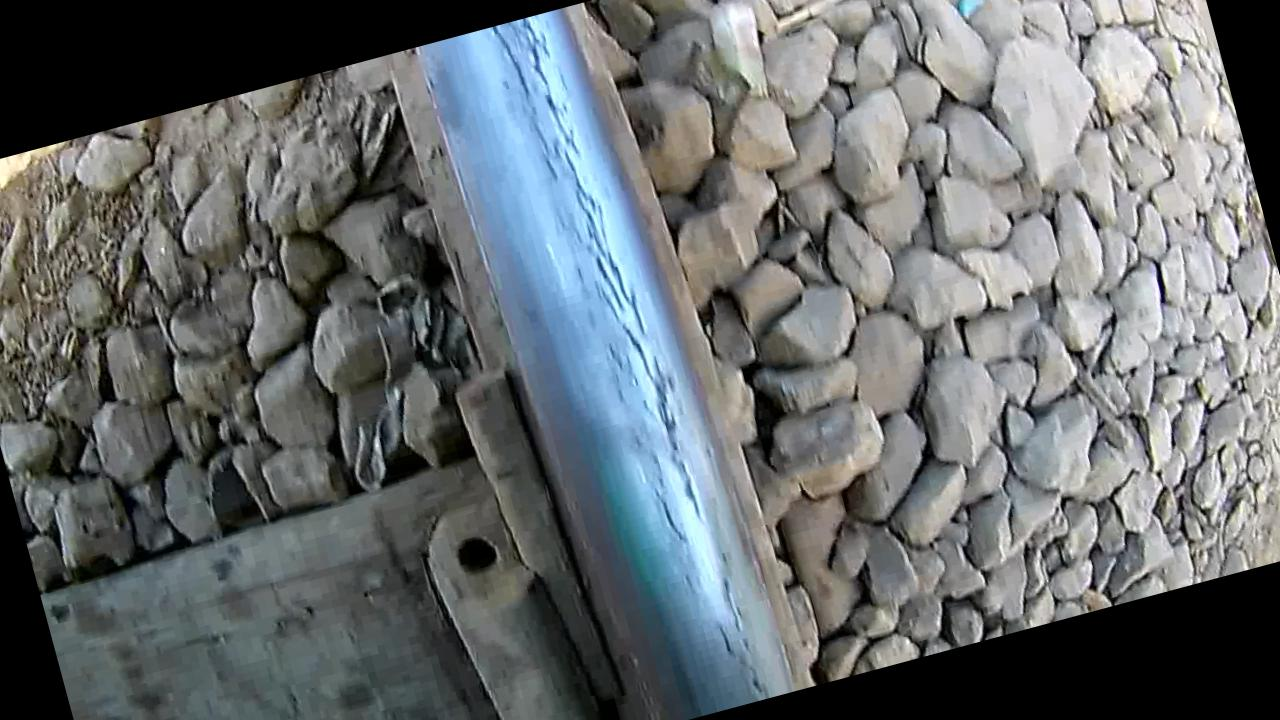normal_track: (489, 2, 772, 720)
